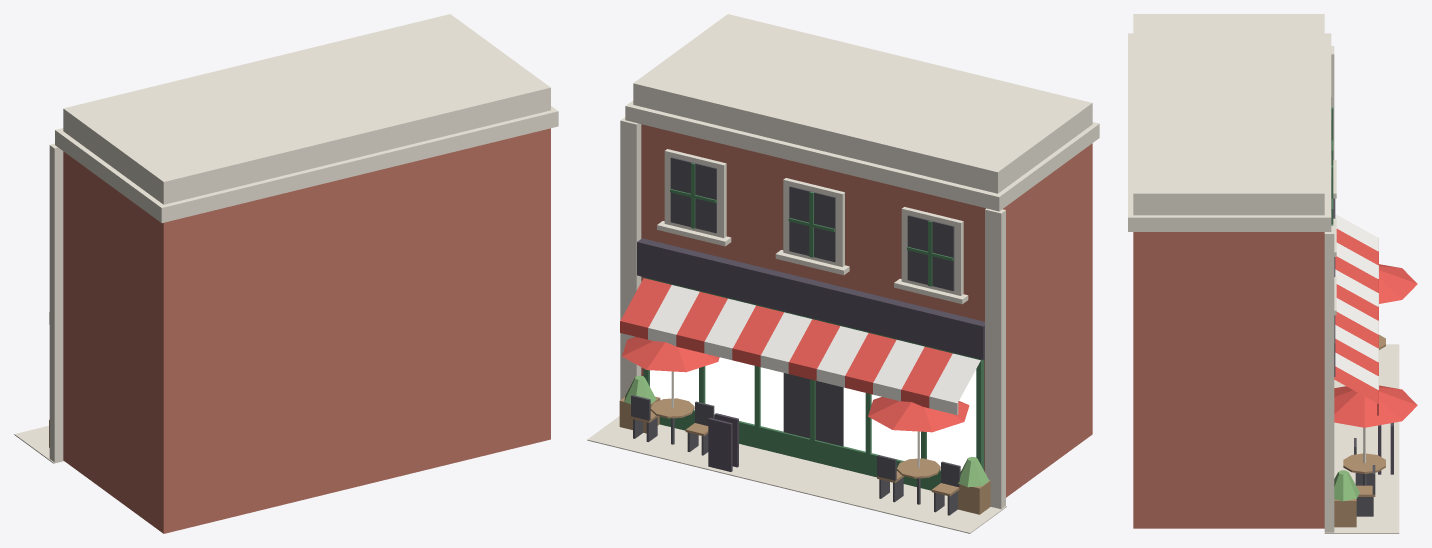
Rendered from restaurant-pizzazz.glb.
3 views of the same model, side by side, from view 1: azimuth 30°, elevation 25°; view 2: azimuth 150°, elevation 25°; view 3: azimuth 270°, elevation 25° (orthographic). The views are drawn at different scales.
Parts seen in each view (by area): view 1: pizzazz-wall, pizzazz-trim; view 2: pizzazz-trim, pizzazz-wall, pizzazz-sign, pizzazz-dark, pizzazz-glass, pizzazz-awning-b, pizzazz-awning-a, pizzazz-frame, pizzazz-parasol, pizzazz-wood, pizzazz-green; view 3: pizzazz-wall, pizzazz-trim, pizzazz-awning-a, pizzazz-awning-b, pizzazz-parasol, pizzazz-wood, pizzazz-dark, pizzazz-green, pizzazz-sign, pizzazz-frame.
Boxes of the visible parts, <box> form: pizzazz-wall: <box>63,128,550,533</box>; pizzazz-trim: <box>14,14,558,463</box>; pizzazz-trim: <box>587,14,1099,533</box>; pizzazz-wall: <box>641,124,1092,497</box>; pizzazz-sign: <box>637,238,984,471</box>; pizzazz-dark: <box>631,157,960,515</box>; pizzazz-glass: <box>650,357,976,471</box>; pizzazz-awning-b: <box>648,285,980,414</box>; pizzazz-awning-a: <box>620,278,952,408</box>; pizzazz-frame: <box>643,163,984,490</box>; pizzazz-parasol: <box>622,337,969,432</box>; pizzazz-wood: <box>619,396,990,514</box>; pizzazz-green: <box>624,375,989,487</box>; pizzazz-wall: <box>1133,232,1324,528</box>; pizzazz-trim: <box>1128,14,1399,533</box>; pizzazz-awning-a: <box>1334,229,1378,415</box>; pizzazz-awning-b: <box>1335,214,1378,389</box>; pizzazz-parasol: <box>1334,264,1417,427</box>; pizzazz-wood: <box>1334,334,1385,527</box>; pizzazz-dark: <box>1331,97,1375,516</box>; pizzazz-green: <box>1334,470,1359,501</box>; pizzazz-sign: <box>1333,198,1393,474</box>; pizzazz-frame: <box>1331,107,1333,225</box>.
Bounding box in the file's own units: 8.4 × 6.97 × 5.45.
